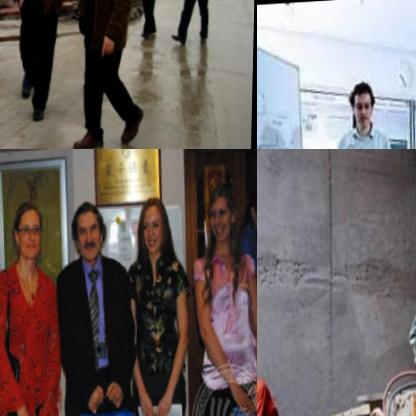head: (67, 200, 107, 260), (9, 199, 46, 259), (134, 195, 170, 256), (203, 181, 238, 243), (346, 75, 379, 132), (244, 183, 257, 236)
